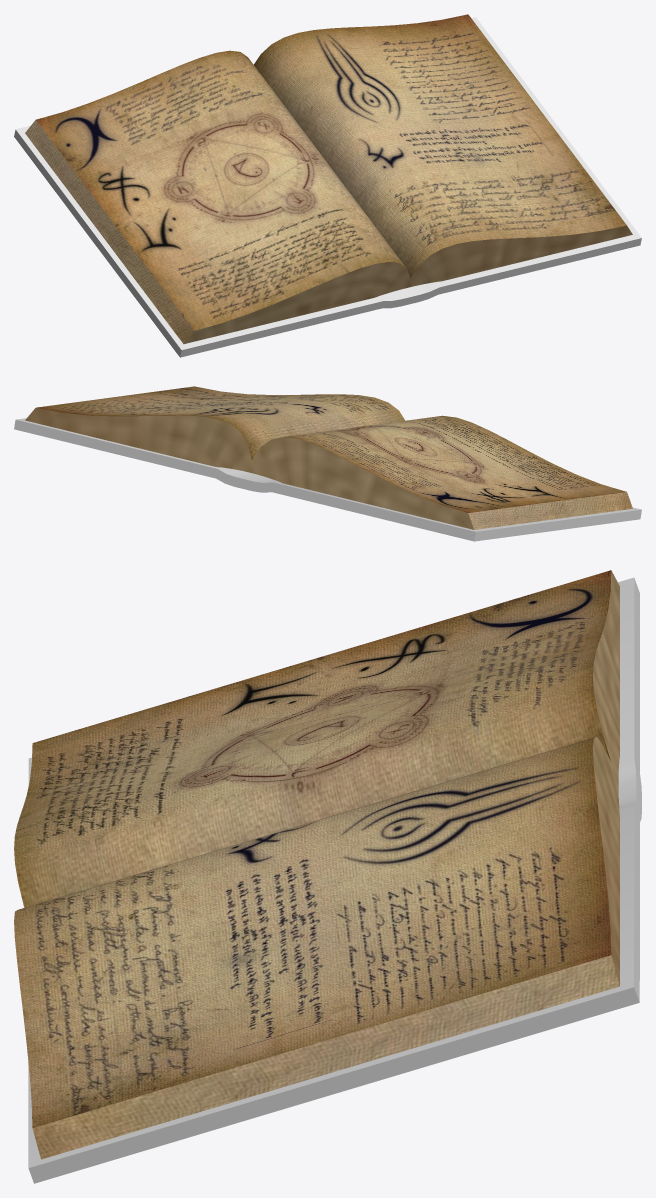
Rendered from InaWeapon-Open.fbx.
3 views of the same model, one above another, from view 1: azimuth 30°, elevation 25°; view 2: azimuth 150°, elevation 25°; view 3: azimuth 270°, elevation 25° (orthographic). The views are drawn at different scales.
Visible parts, largest first — view 1: Book; view 2: Book; view 3: Book.
Part boxes in pixels (x1,y1,x2,y2): Book: (14, 14, 641, 357); Book: (14, 386, 641, 541); Book: (14, 570, 641, 1183).
Size of the model in its own units: 76.41 by 23.75 by 49.51.
2 materials, 1 textured.
